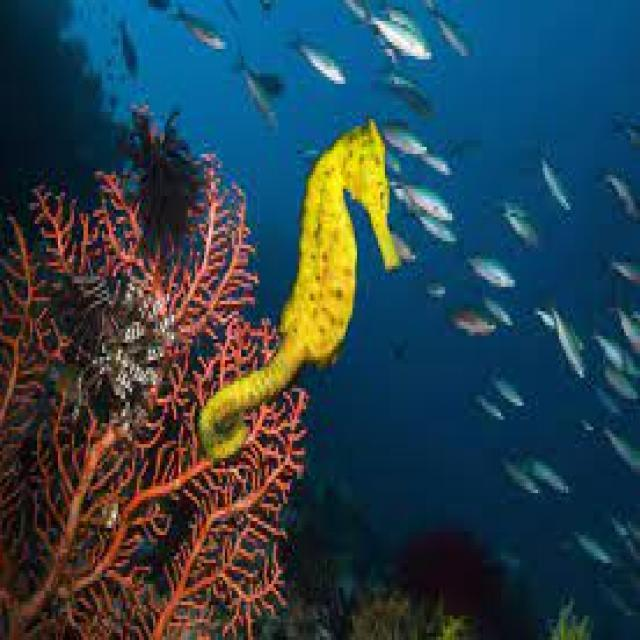SeaHorse: (197, 119, 415, 462)
